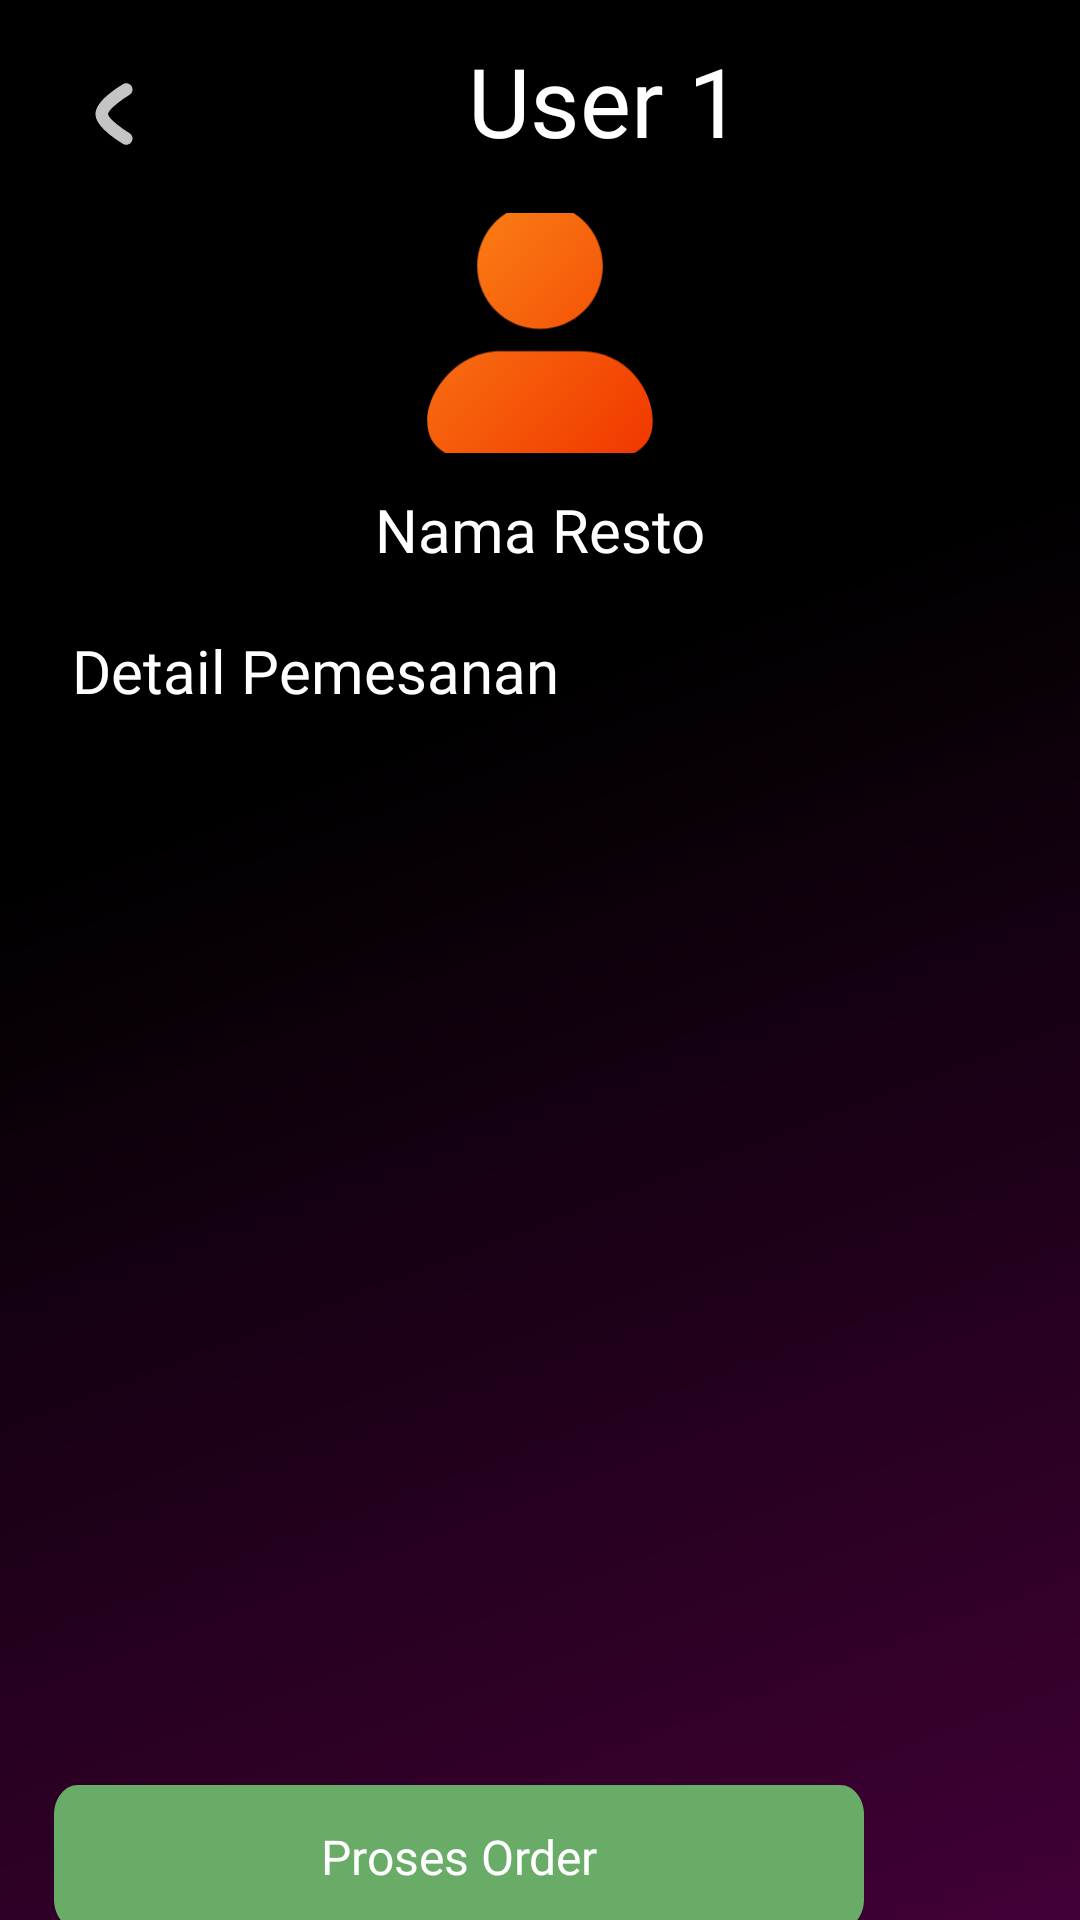

Icon click points for this 1080*1920 phone screenshot, format [x,y]:
back: [114,114]
person: [540,333]
